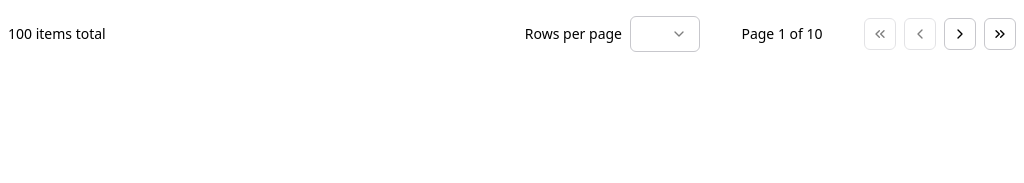
PaginationComponent › renders the correct page size options
Click the dropdown. click: {"x": 665, "y": 34}
box: [630,16,700,52]
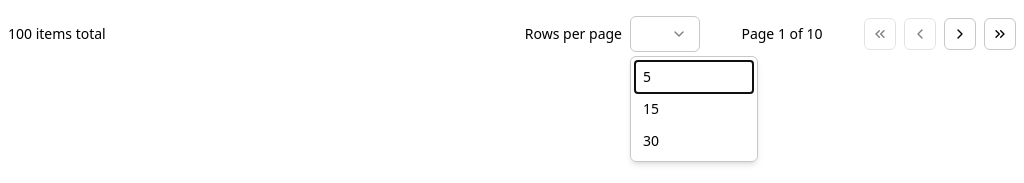
Result: the option "5" is shown at [643,67,651,86]
Result: the option "15" is shown at [643,99,659,118]
Result: the option "30" is shown at [643,131,659,150]
